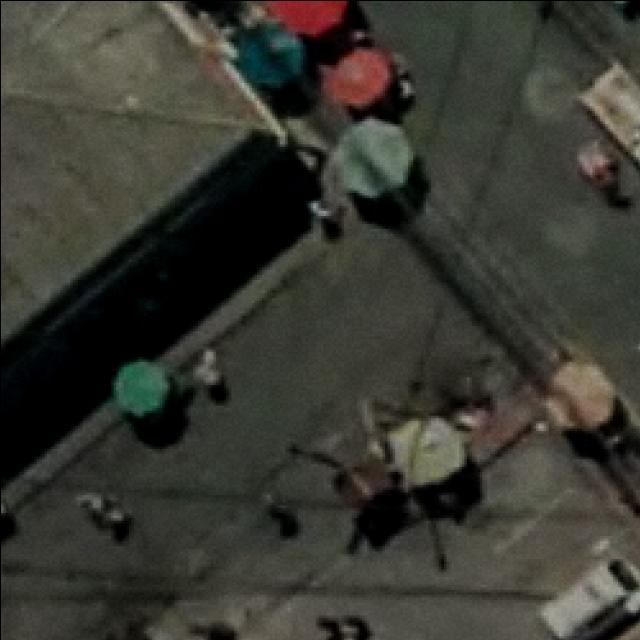vendedor_ambulante: (324, 119, 419, 205), (382, 414, 468, 491), (536, 360, 620, 434), (230, 21, 311, 91), (322, 44, 400, 112), (106, 353, 174, 420), (266, 0, 354, 41)
